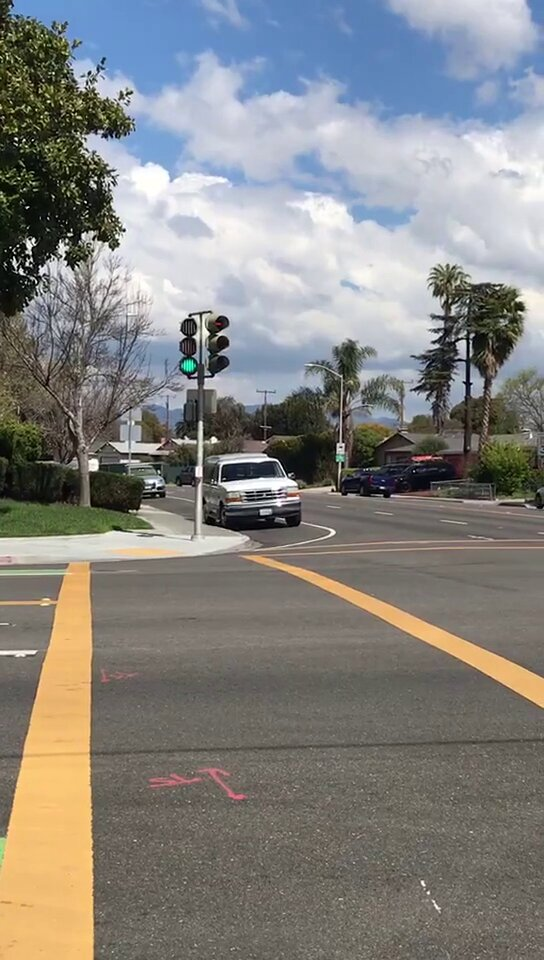green_light: (180, 317, 200, 377)
